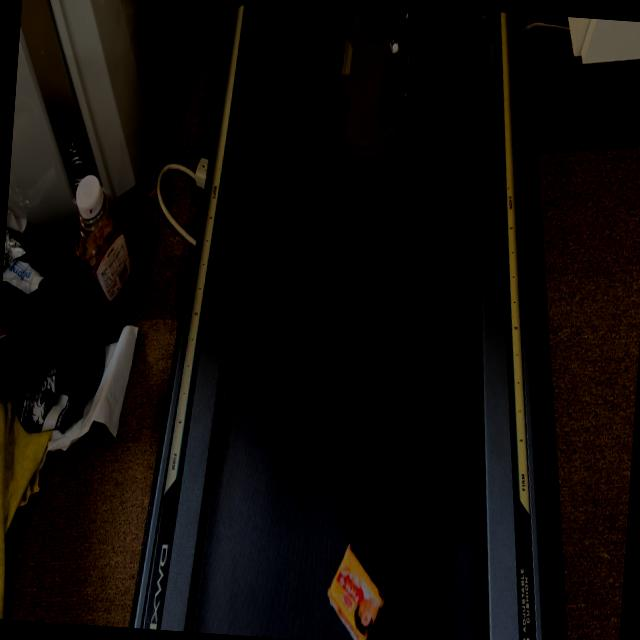Trash: (326, 7, 424, 166), (322, 537, 395, 640)
